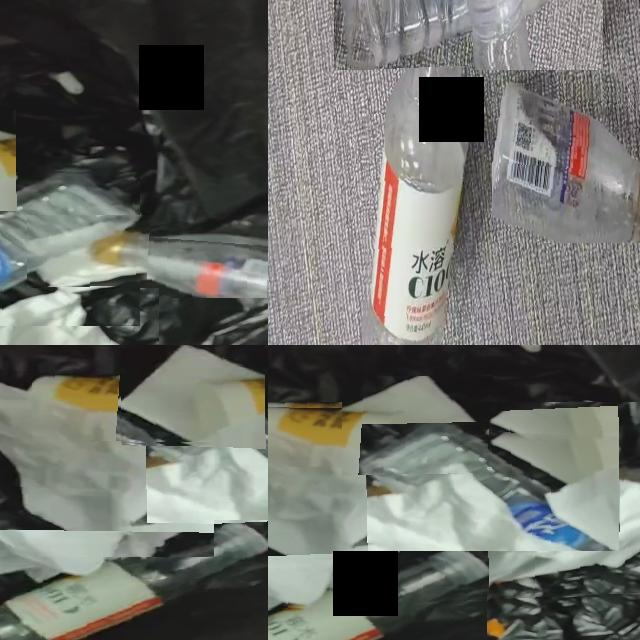bottle: (366, 0, 471, 345), (366, 429, 612, 551), (0, 529, 268, 640), (492, 84, 640, 243), (268, 560, 487, 640), (0, 172, 140, 291), (93, 235, 268, 298), (146, 397, 268, 461)
dixie_cup: (32, 375, 190, 440), (268, 407, 418, 467)
paper: (268, 425, 640, 605), (0, 384, 214, 557), (121, 449, 268, 577), (342, 376, 490, 475), (121, 345, 265, 442), (27, 215, 148, 288), (0, 288, 114, 345)
